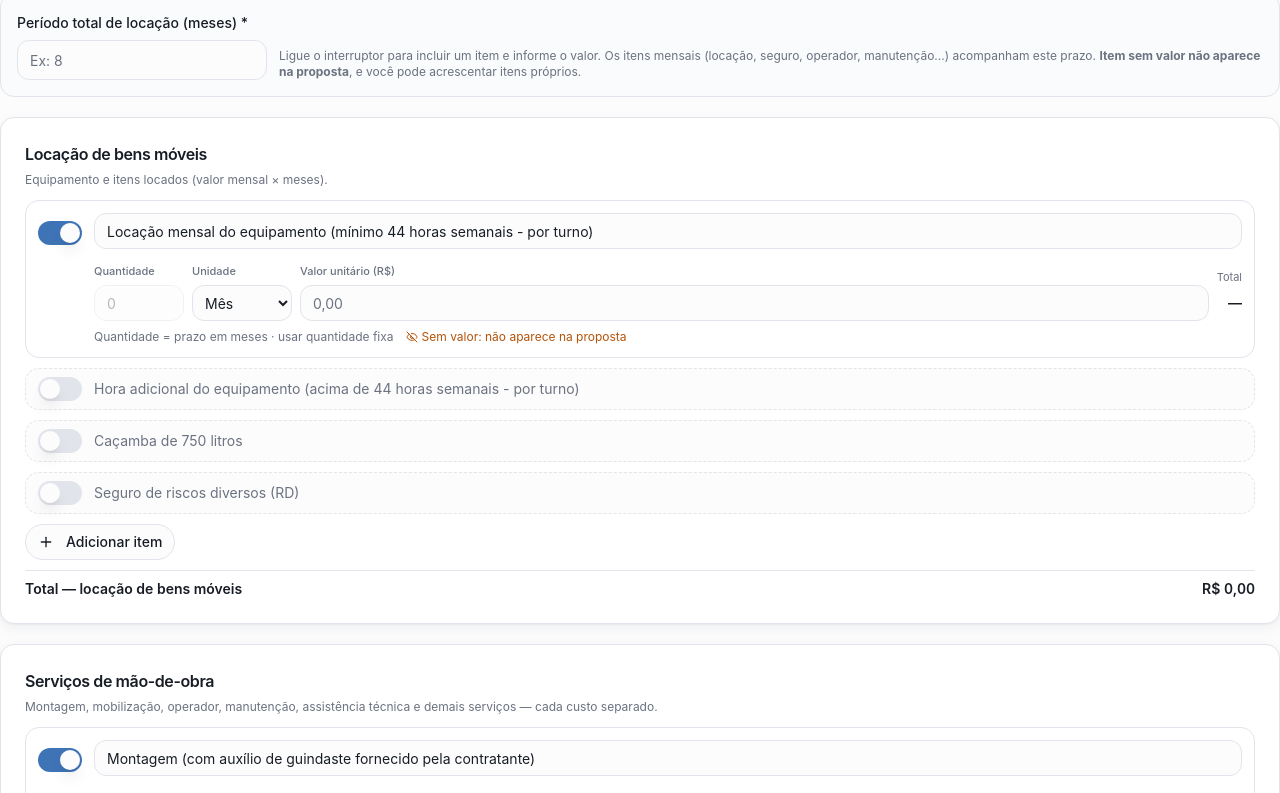
etapa Preços › prazo e valor da locação mensal liberam o Próximo e entram nos totais
Type "8" into the number field labelled "Período total de locação (meses) *" at (142, 60), box x1=17 y1=40 x2=267 y2=80
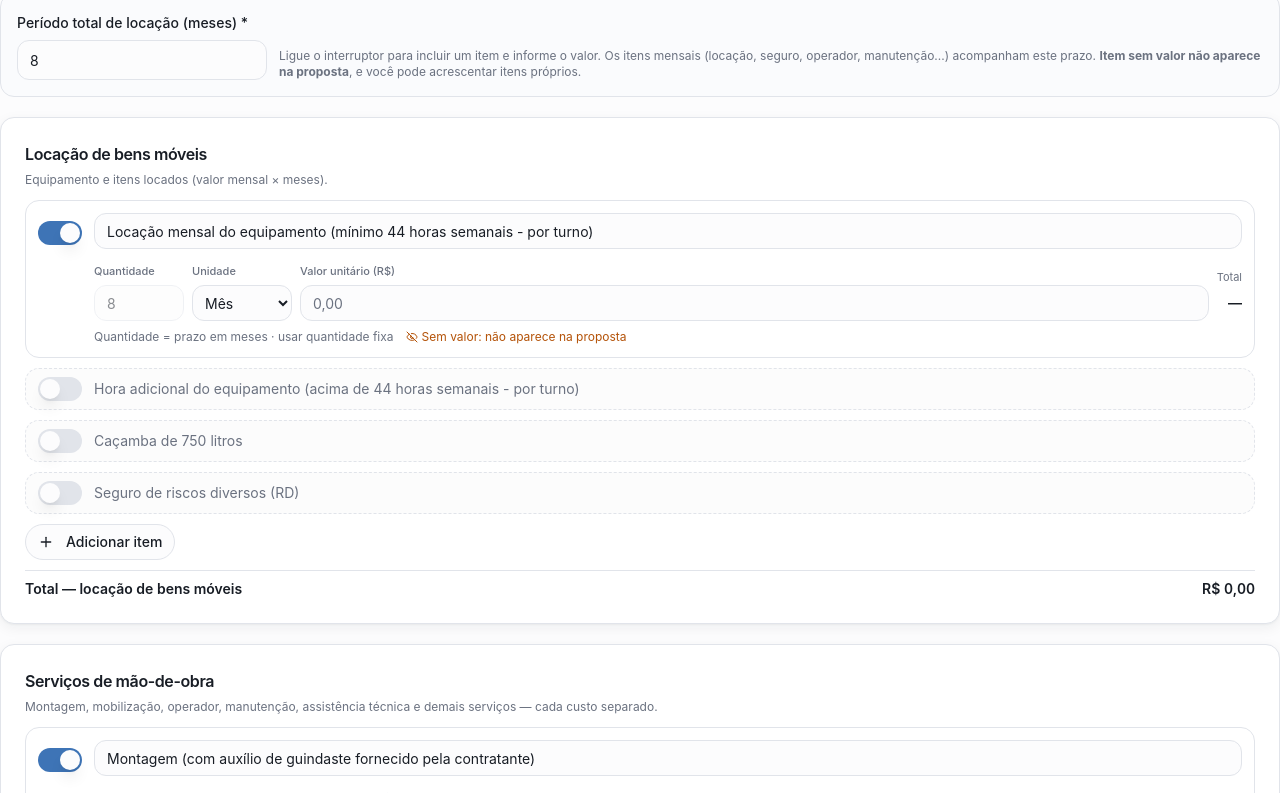
Type "22666" into the number field named "Valor unitário" at (754, 303), box x1=300 y1=285 x2=1209 y2=321
(page scrolled)
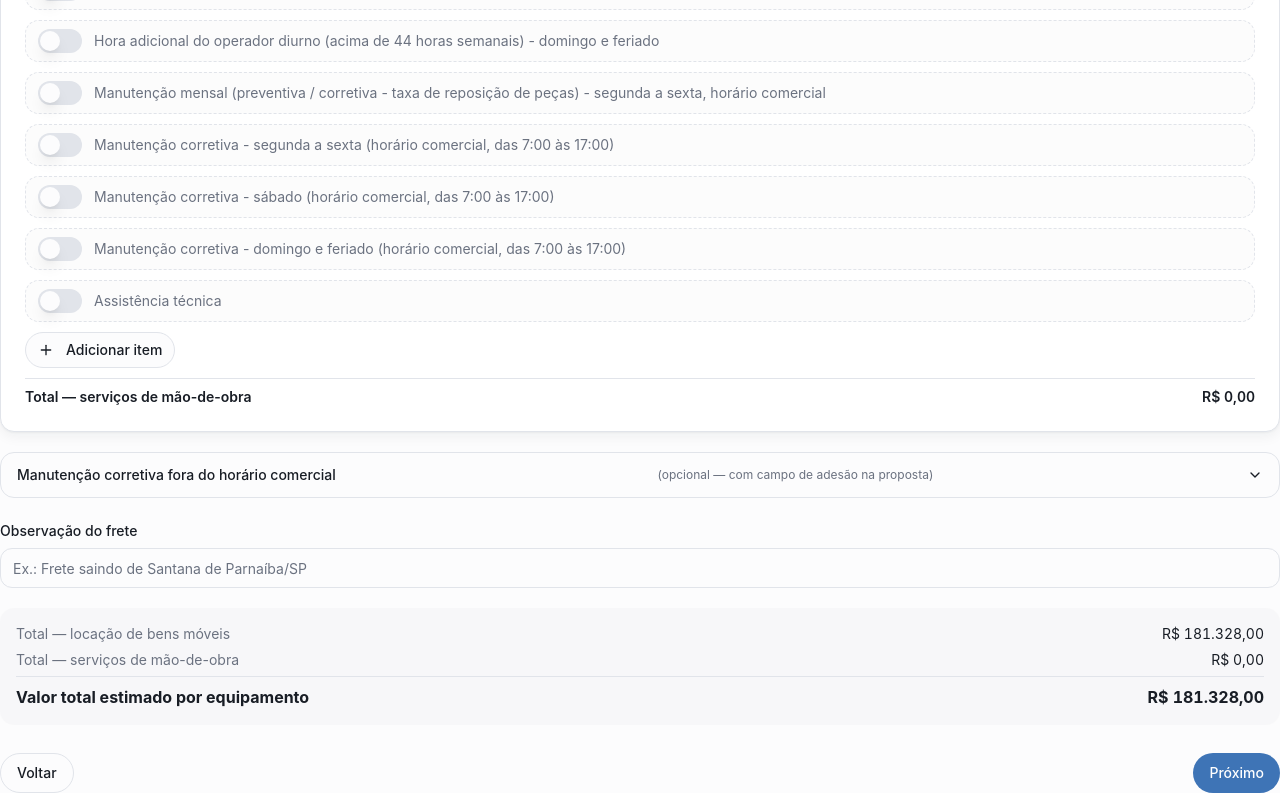
Expected: the text "Sem valor" is not shown
Expected: the button "Próximo" is enabled, x1=1194 y1=753 x2=1279 y2=792
